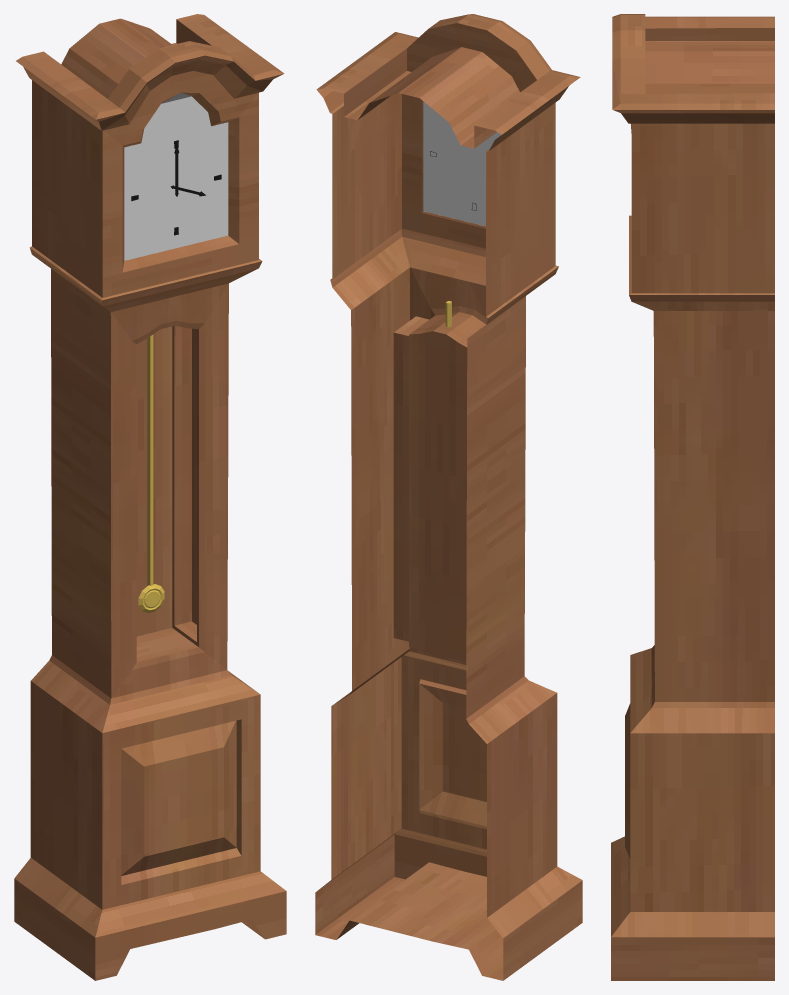
File: grandfather-clock-webp.glb
3 views of the same model, side by side, from view 1: azimuth 30°, elevation 25°; view 2: azimuth 150°, elevation 25°; view 3: azimuth 270°, elevation 25° (orthographic). The views are drawn at different scales.
Parts seen in each view (by area): view 1: Grandfathers_clock.001, Grandfathers_clock; view 2: Grandfathers_clock.001, Grandfathers_clock; view 3: Grandfathers_clock.001.
Part boxes in pixels (left/top/right/bottom): Grandfathers_clock.001: left=14, top=14, right=286, bottom=980; Grandfathers_clock: left=124, top=93, right=228, bottom=612; Grandfathers_clock.001: left=315, top=14, right=582, bottom=980; Grandfathers_clock: left=423, top=101, right=501, bottom=327; Grandfathers_clock.001: left=611, top=14, right=774, bottom=980.
Bounding box in the file's own units: 0.3032 × 1.36 × 0.2224.
2 materials, 2 textured.
